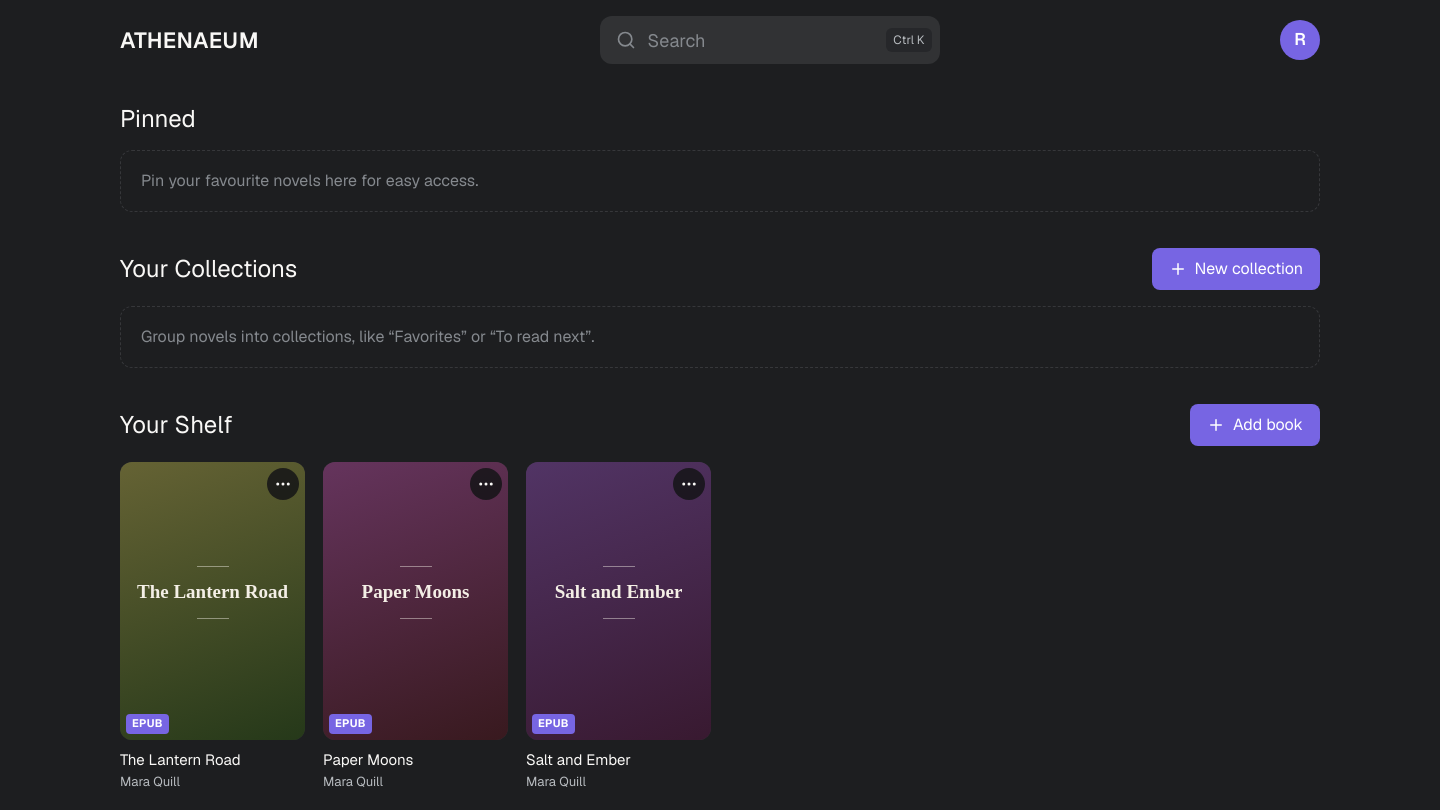
Test: pinned books › adds a book to the section when you pin it from the shelf
The width and height of the screenshot is (1440, 810).
Click the button named "Options for Paper Moons". click: (486, 484)
box: [470, 468, 502, 500]
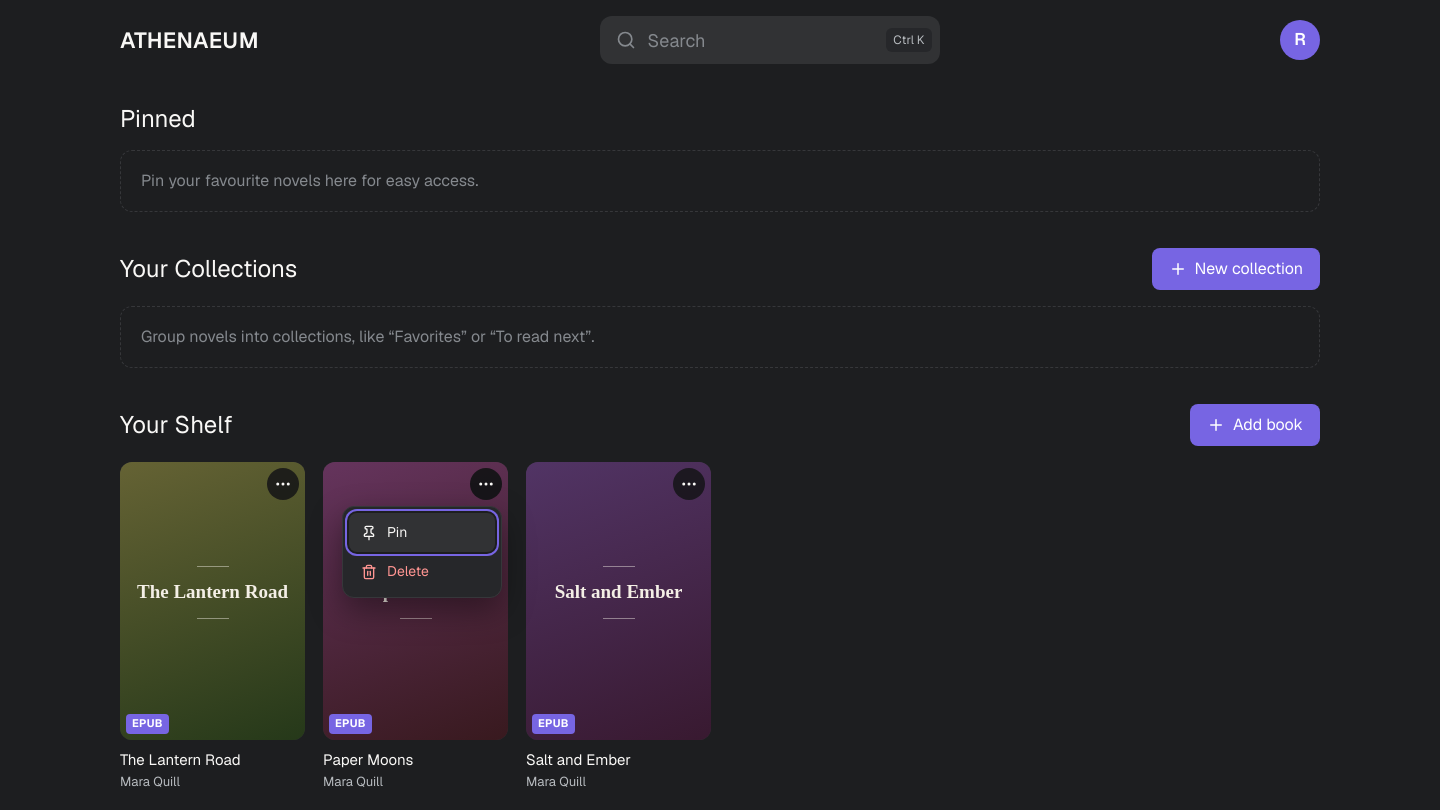
Click the menu item "Pin". click: (422, 532)
box: [349, 513, 495, 552]
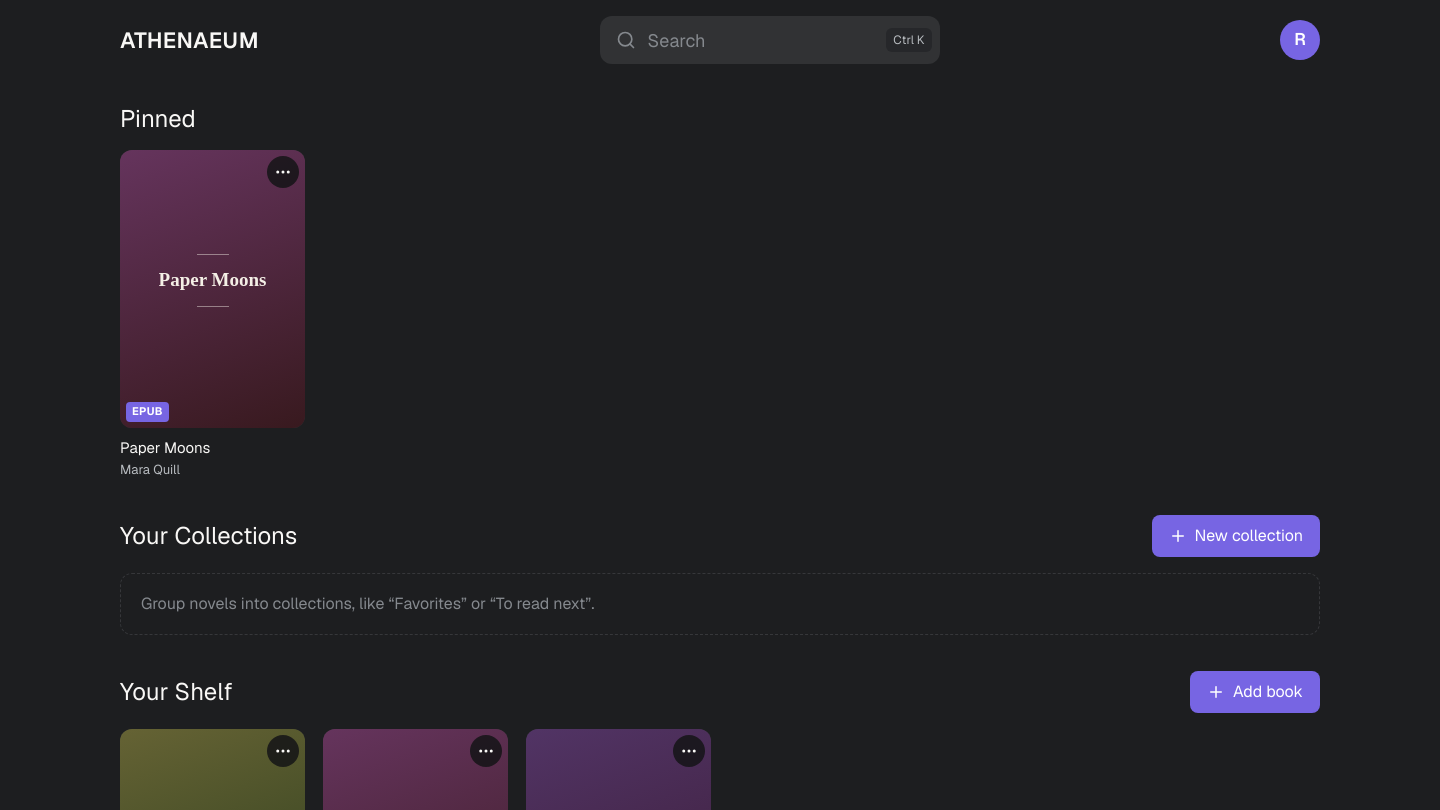
Result: the text "Pin your favourite novels" is gone
